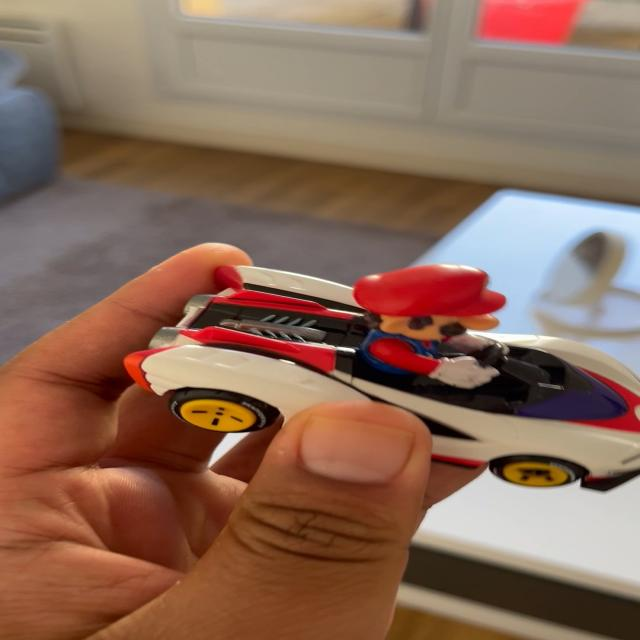mario: (116, 230, 640, 497)
